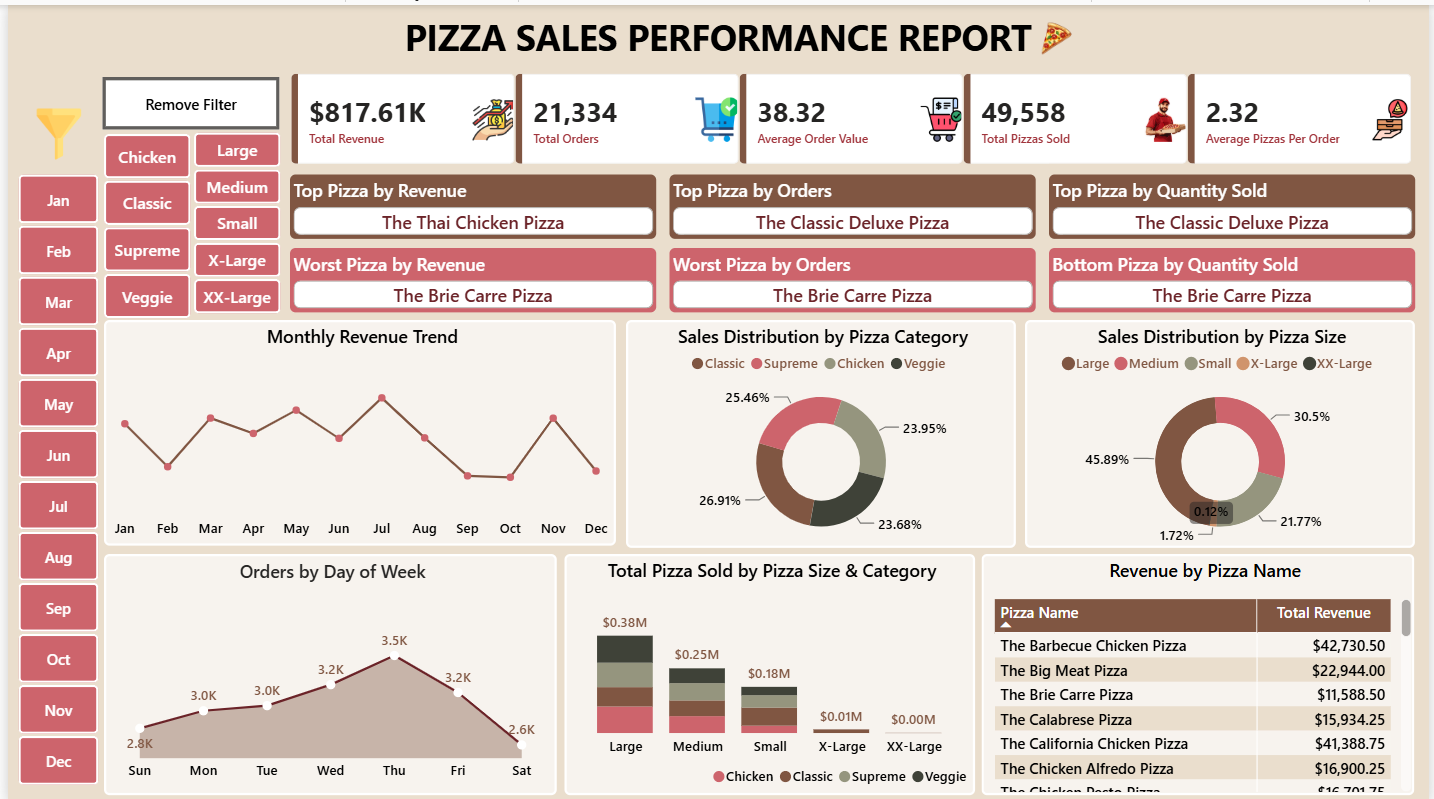

Layout of this report page (visuals, bound fields, positions):
{"tool":"powerbi","page":{"name":"Sales Performance  Dashboard","canvas":[1280,720],"ordinal":0},"visuals":[{"type":"textbox","box":[346,6,588,50],"z":0},{"type":"cardVisual","fields":{"Data":["Key Measures.Total_Revenue","Key Measures.Total_Orders","Key Measures.Average_Order_Value","Key Measures.Total_Pizzas_Sold","Key Measures.Average_Pizzas_Per_Order"]},"box":[243.3,50,1035.4,105.4],"z":1000},{"type":"lineChart","title":"Monthly Revenue Trend","fields":{"Category":["Pizza_Sales.Month Name"],"Y":["Key Measures.Total_Revenue"]},"box":[86.6,283.5,461.5,203.2],"z":2000},{"type":"pivotTable","title":"Revenue by Pizza Name","fields":{"Rows":["Pizza_Sales.pizza_name"],"Values":["Key Measures.Total_Revenue"]},"box":[877.3,495,390,217],"z":3000},{"type":"donutChart","title":"Sales Distribution by Pizza Size","fields":{"Category":["Pizza_Sales.pizza_size"],"Y":["Key Measures.Total_Revenue"]},"box":[916.5,283.5,351,205.5],"z":4000},{"type":"columnChart","title":"Total Pizza Sold by Pizza Size & Category","fields":{"Category":["Pizza_Sales.pizza_size"],"Series":["Pizza_Sales.pizza_category"],"Y":["Key Measures.Total_Revenue"]},"box":[500.9,495,370,217],"z":5000},{"type":"image","box":[908.4,13.5,71.6,33.8],"z":6000},{"type":"advancedSlicerVisual","fields":{"Values":["Pizza_Sales.Month Name"]},"box":[9.5,152.7,73,559.6],"z":7000},{"type":"advancedSlicerVisual","title":"Top Pizza by Revenue","fields":{"Values":["Pizza_Sales.pizza_name"]},"box":[254.1,152.7,330,58],"z":8000},{"type":"advancedSlicerVisual","title":"Worst Pizza by Revenue","fields":{"Values":["Pizza_Sales.pizza_name"]},"box":[254.1,219,330,58],"z":9000},{"type":"advancedSlicerVisual","title":"Top Pizza by Orders","fields":{"Values":["Pizza_Sales.pizza_name"]},"box":[596.1,152.7,330,58],"z":10000},{"type":"advancedSlicerVisual","title":"Worst Pizza by Orders","fields":{"Values":["Pizza_Sales.pizza_name"]},"box":[596.1,219,330,58],"z":11000},{"type":"advancedSlicerVisual","title":"Top Pizza by Quantity Sold","fields":{"Values":["Pizza_Sales.pizza_name"]},"box":[938.1,152.7,330,58],"z":12000},{"type":"advancedSlicerVisual","title":"Bottom Pizza by Quantity Sold","fields":{"Values":["Pizza_Sales.pizza_name"]},"box":[938.1,219,330,58],"z":13000},{"type":"actionButton","box":[85,65,159.5,47.3],"z":14000},{"type":"advancedSlicerVisual","fields":{"Values":["Pizza_Sales.pizza_size"]},"box":[168,114.9,78.4,166.3],"z":15000},{"type":"advancedSlicerVisual","fields":{"Values":["Pizza_Sales.pizza_category"]},"box":[86,116.2,78,166],"z":16000},{"type":"lineChart","title":"Orders by Day of Week","fields":{"Category":["Pizza_Sales.Day Name"],"Y":["Key Measures.Total_Orders"]},"box":[86.5,495,408,217],"z":17000},{"type":"donutChart","title":"Sales Distribution by Pizza Category","fields":{"Category":["Pizza_Sales.pizza_category"],"Y":["Key Measures.Total_Revenue"]},"box":[556.8,283.5,351,205.5],"z":18000},{"type":"image","box":[16.2,93.3,59.5,46],"z":19000}]}

Visuals, with their boxes in screenshot pixels (x1, y1, x2, y2), scaled from the page's 1280x720 canvas onto the 1434x799 screenshot:
textbox: crop(388, 7, 1046, 62)
cardVisual - Key Measures.Total_Revenue x Key Measures.Total_Orders: crop(273, 55, 1433, 172)
"Monthly Revenue Trend" lineChart: crop(97, 315, 614, 540)
"Revenue by Pizza Name" pivotTable: crop(983, 549, 1420, 790)
"Sales Distribution by Pizza Size" donutChart: crop(1027, 315, 1420, 543)
"Total Pizza Sold by Pizza Size & Category" columnChart: crop(561, 549, 976, 790)
image: crop(1018, 15, 1098, 52)
advancedSlicerVisual - Pizza_Sales.Month Name: crop(11, 169, 92, 790)
"Top Pizza by Revenue" advancedSlicerVisual: crop(285, 169, 654, 234)
"Worst Pizza by Revenue" advancedSlicerVisual: crop(285, 243, 654, 307)
"Top Pizza by Orders" advancedSlicerVisual: crop(668, 169, 1038, 234)
"Worst Pizza by Orders" advancedSlicerVisual: crop(668, 243, 1038, 307)
"Top Pizza by Quantity Sold" advancedSlicerVisual: crop(1051, 169, 1421, 234)
"Bottom Pizza by Quantity Sold" advancedSlicerVisual: crop(1051, 243, 1421, 307)
actionButton: crop(95, 72, 274, 125)
advancedSlicerVisual - Pizza_Sales.pizza_size: crop(188, 128, 276, 312)
advancedSlicerVisual - Pizza_Sales.pizza_category: crop(96, 129, 184, 313)
"Orders by Day of Week" lineChart: crop(97, 549, 554, 790)
"Sales Distribution by Pizza Category" donutChart: crop(624, 315, 1017, 543)
image: crop(18, 104, 85, 155)
